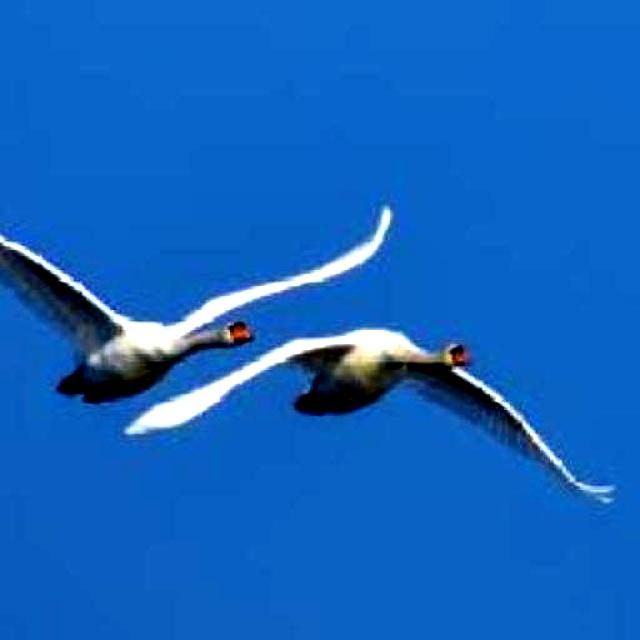airplane: (0, 158, 398, 414), (130, 332, 614, 524)
